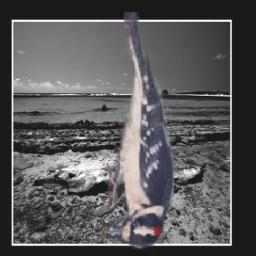Woodpecker: (102, 12, 177, 252)
